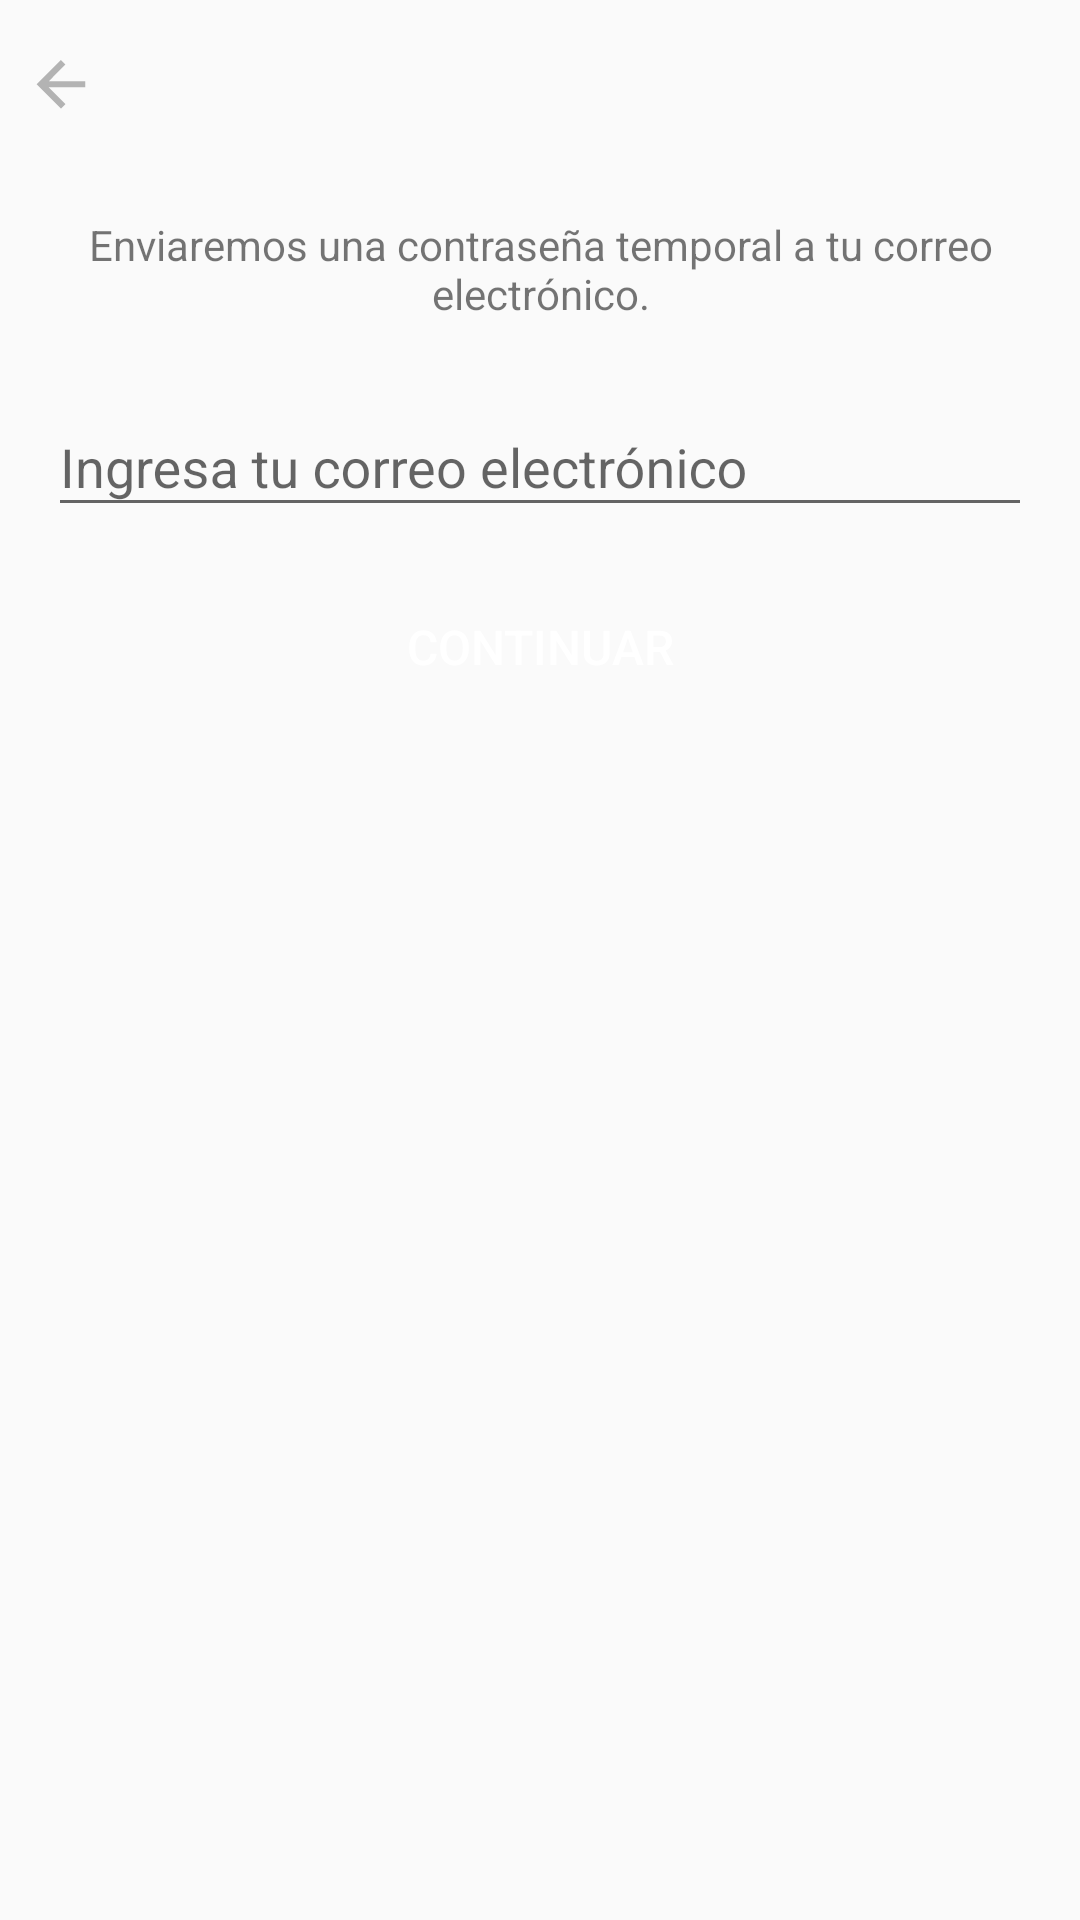

Icons on this 1080px×1920px Android screen, each with its box as [x1, y1, x2, y2]:
back: [37, 60, 85, 108]
